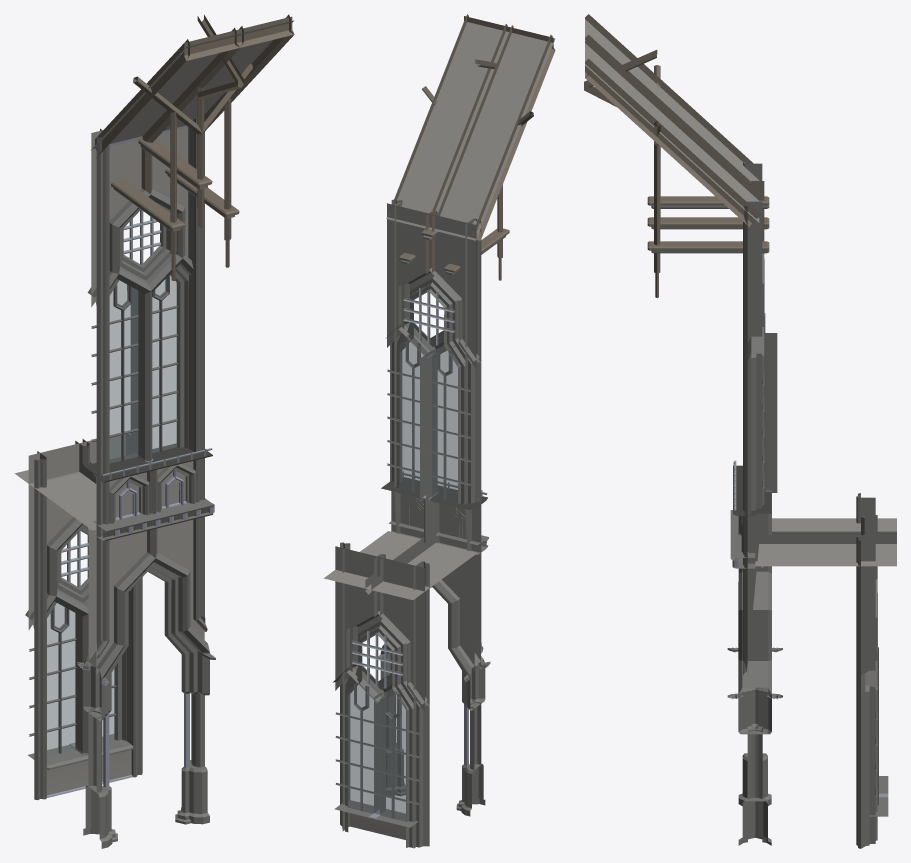
File: Main_Tile.fbx
3 views of the same model, side by side, from view 1: azimuth 30°, elevation 25°; view 2: azimuth 150°, elevation 25°; view 3: azimuth 270°, elevation 25° (orthographic). The views are drawn at different scales.
Parts seen in each view (by area): view 1: polySurface173, polySurface199, polySurface176, pCube240, polySurface193, polySurface483, pCube275, pCube233, polySurface463, polySurface482, polySurface200, pCube238 (+24 smaller); view 2: pCube233, pCube275, polySurface193, polySurface194, pCube238, polySurface173, pCube240, polySurface483, polySurface462, polySurface463, pCube261, polySurface199 (+18 smaller); view 3: polySurface173, polySurface199, polySurface176, pCube233, pCube261, polySurface175, polySurface193, polySurface194, polySurface200, polySurface182, polySurface212, polySurface292 (+6 smaller).
Part boxes in pixels (left/top/right/bottom): polySurface173: left=77, top=470, right=215, bottom=848; polySurface199: left=96, top=117, right=207, bottom=658; polySurface176: left=34, top=434, right=142, bottom=799; pCube240: left=88, top=461, right=204, bottom=674; polySurface193: left=87, top=188, right=193, bottom=448; polySurface483: left=109, top=280, right=138, bottom=463; pCube275: left=91, top=127, right=188, bottom=307; pCube233: left=90, top=20, right=294, bottom=150; polySurface463: left=47, top=603, right=75, bottom=755; polySurface482: left=152, top=275, right=176, bottom=452; polySurface200: left=131, top=287, right=152, bottom=461; pCube238: left=28, top=433, right=130, bottom=629; pCube233: left=386, top=21, right=555, bottom=240; pCube275: left=387, top=203, right=476, bottom=369; polySurface193: left=385, top=267, right=481, bottom=503; polySurface194: left=333, top=611, right=429, bottom=847; pCube238: left=335, top=546, right=424, bottom=711; polySurface173: left=378, top=499, right=490, bottom=816; pCube240: left=391, top=491, right=480, bottom=671; polySurface483: left=429, top=342, right=458, bottom=507; polySurface462: left=347, top=682, right=377, bottom=813; polySurface463: left=377, top=691, right=406, bottom=821; pCube261: left=323, top=531, right=477, bottom=599; polySurface199: left=391, top=199, right=483, bottom=653; polySurface173: left=727, top=493, right=782, bottom=845; polySurface199: left=743, top=160, right=762, bottom=678; polySurface176: left=856, top=493, right=875, bottom=848; pCube233: left=585, top=19, right=759, bottom=222; pCube261: left=755, top=518, right=896, bottom=566; polySurface175: left=585, top=59, right=760, bottom=226; polySurface193: left=747, top=253, right=764, bottom=514; polySurface194: left=861, top=579, right=877, bottom=848; polySurface200: left=765, top=333, right=777, bottom=492; polySurface182: left=585, top=35, right=753, bottom=193; polySurface212: left=768, top=531, right=896, bottom=543; polySurface292: left=585, top=14, right=753, bottom=163.
Bounding box in the file's own units: 5 × 30.7 × 11.04.
